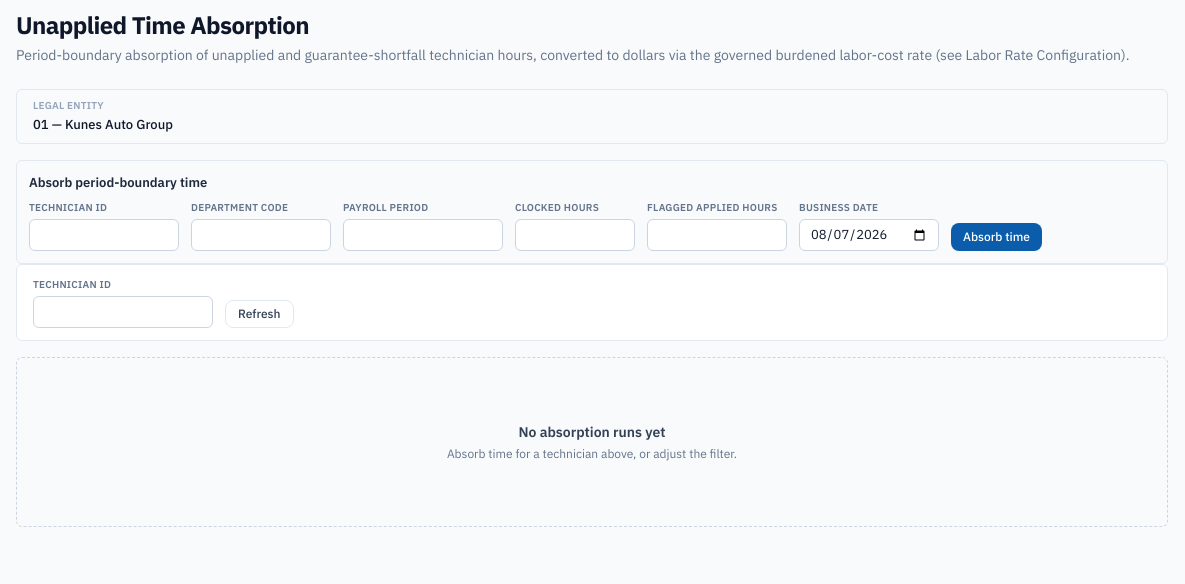
it: TechTimeAbsorption › shows an explicit ACCOUNT_MAPPING_PENDING unavailable state — never a fabricated result
expect the element with test id "tech-time-absorb-form" is shown: met, box [16,160,1168,264]
Type "TECH-Y" into the field with test id "absorb-tech-id" at (104, 235), box [29,219,179,251]
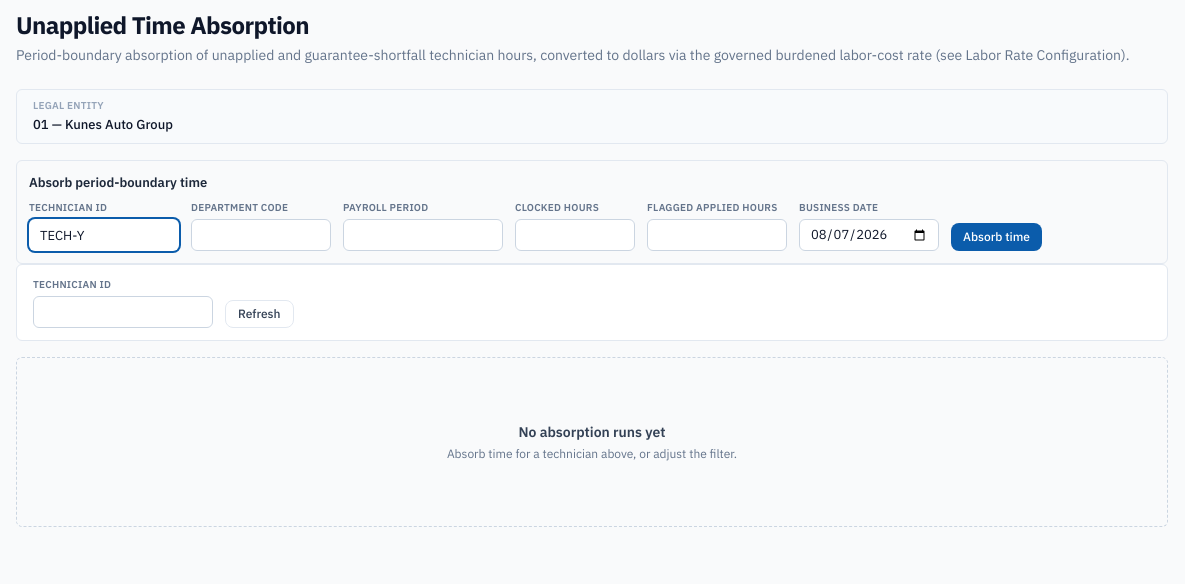
Type "SVC" into the field with test id "absorb-dept-code" at (261, 235), box [191,219,331,251]
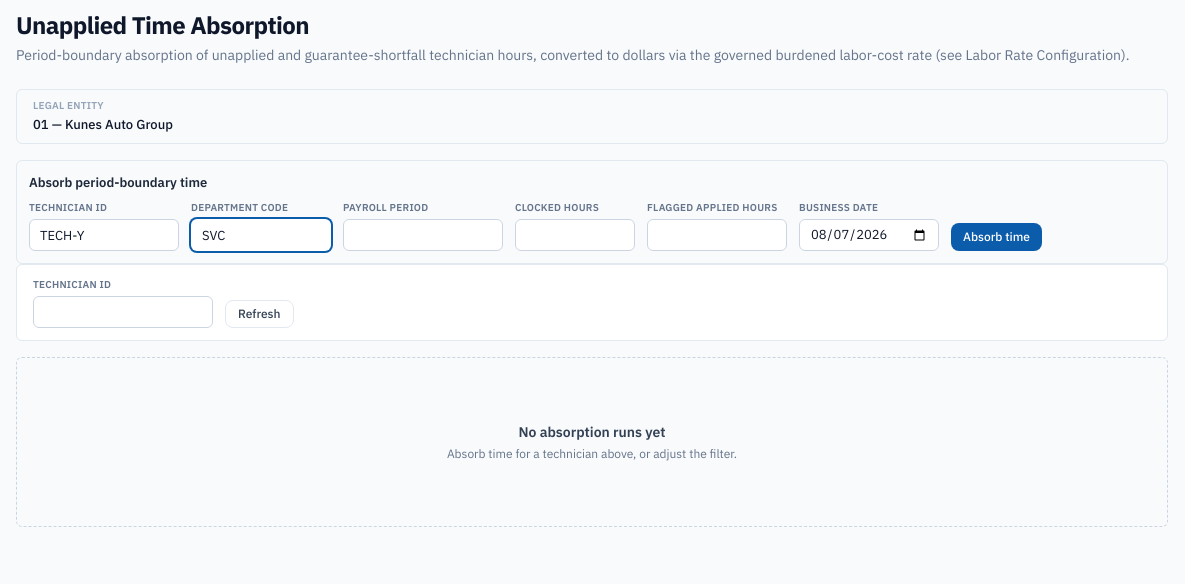
Type "PP-2026-09" into the field with test id "absorb-payroll-period" at (423, 235), box [343,219,503,251]
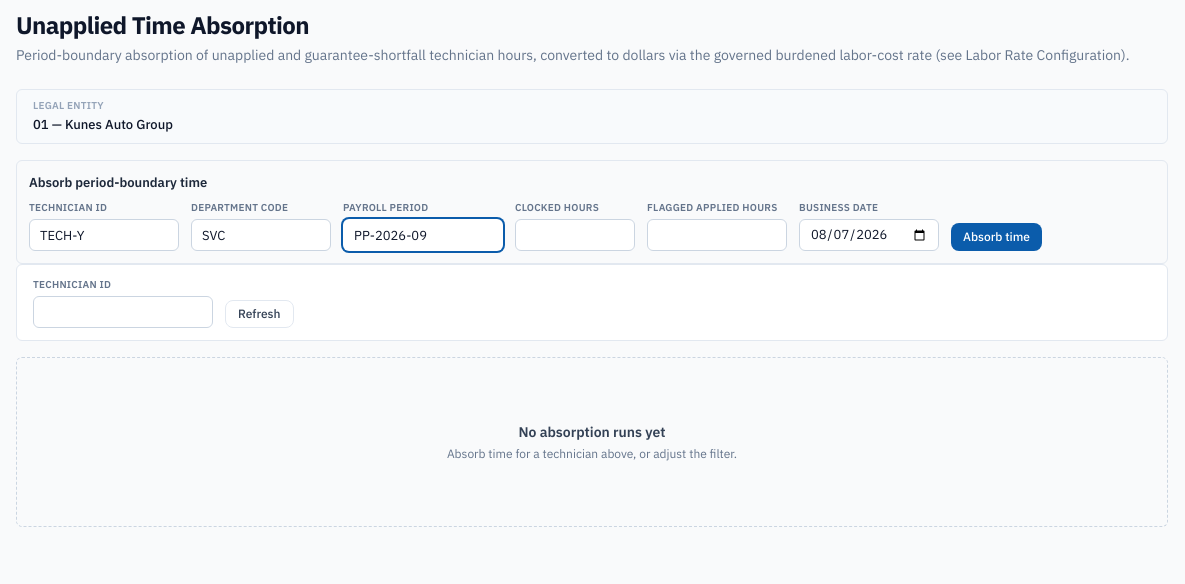
Type "40" into the field with test id "absorb-clocked-hours" at (575, 235), box [515,219,635,251]
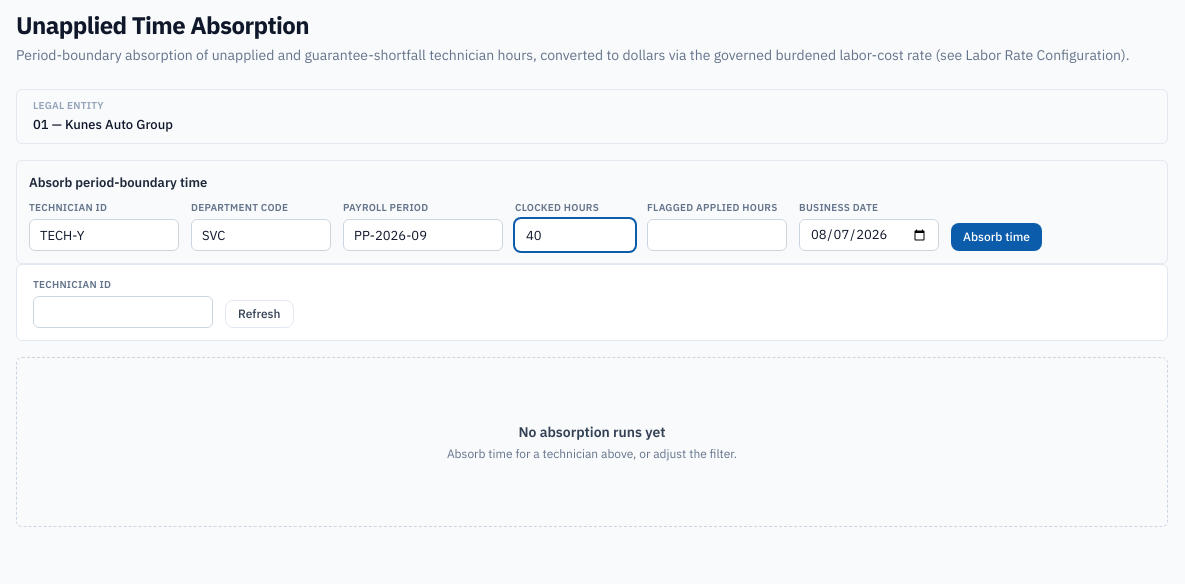
Type "30" into the field with test id "absorb-flagged-hours" at (717, 235), box [647,219,787,251]
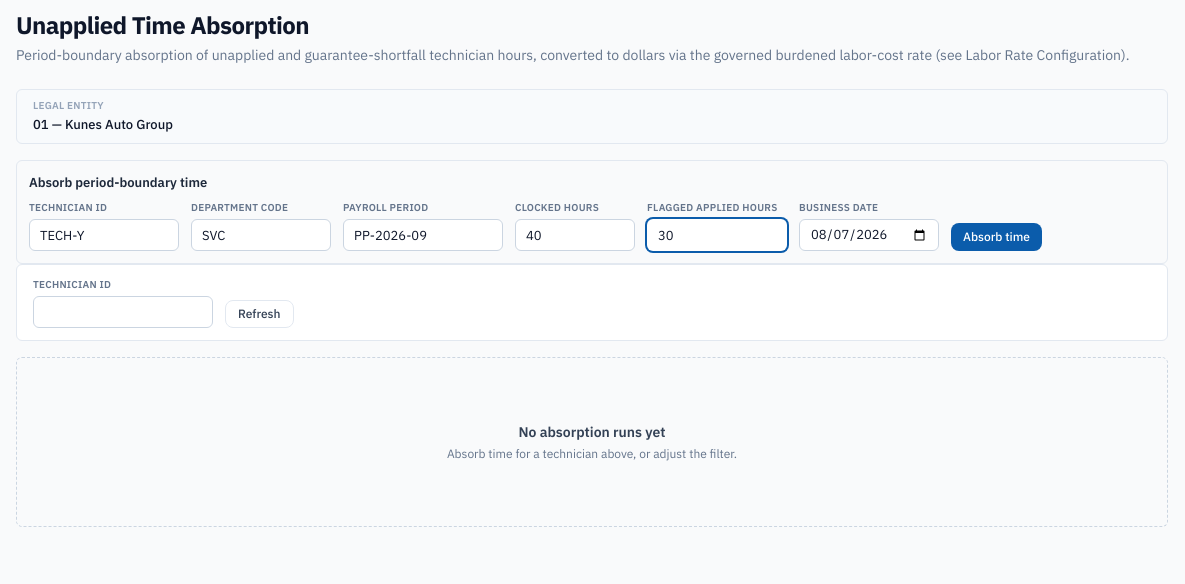
Click the button with test id "absorb-submit" at (996, 237), box [951,223,1042,251]
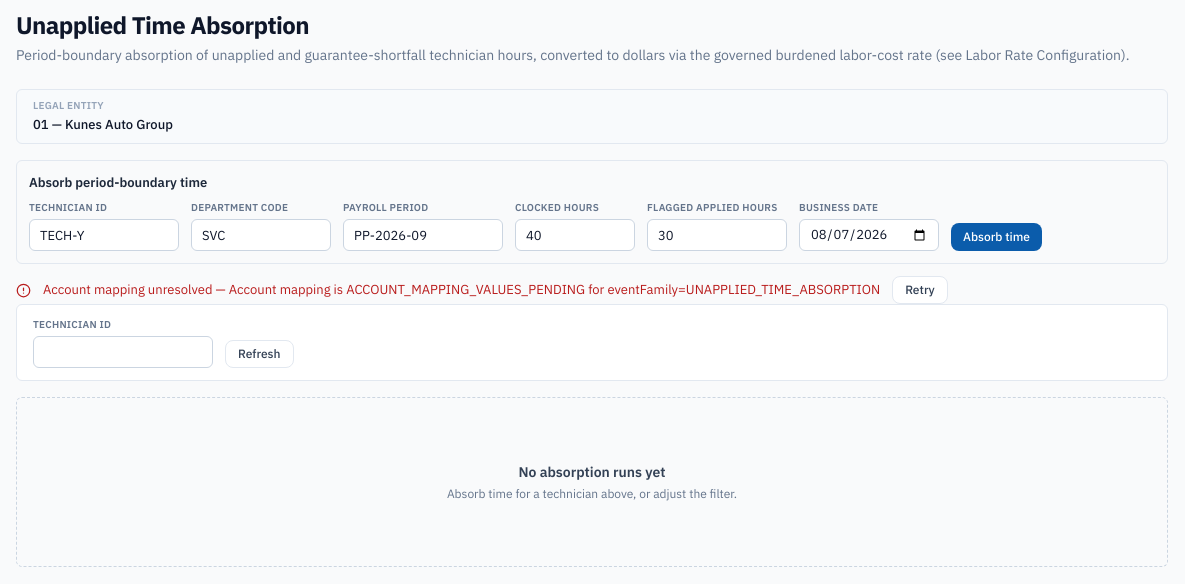
expect the element with test id "tech-time-mapping-pending" is shown: met, box [16,276,948,304]
